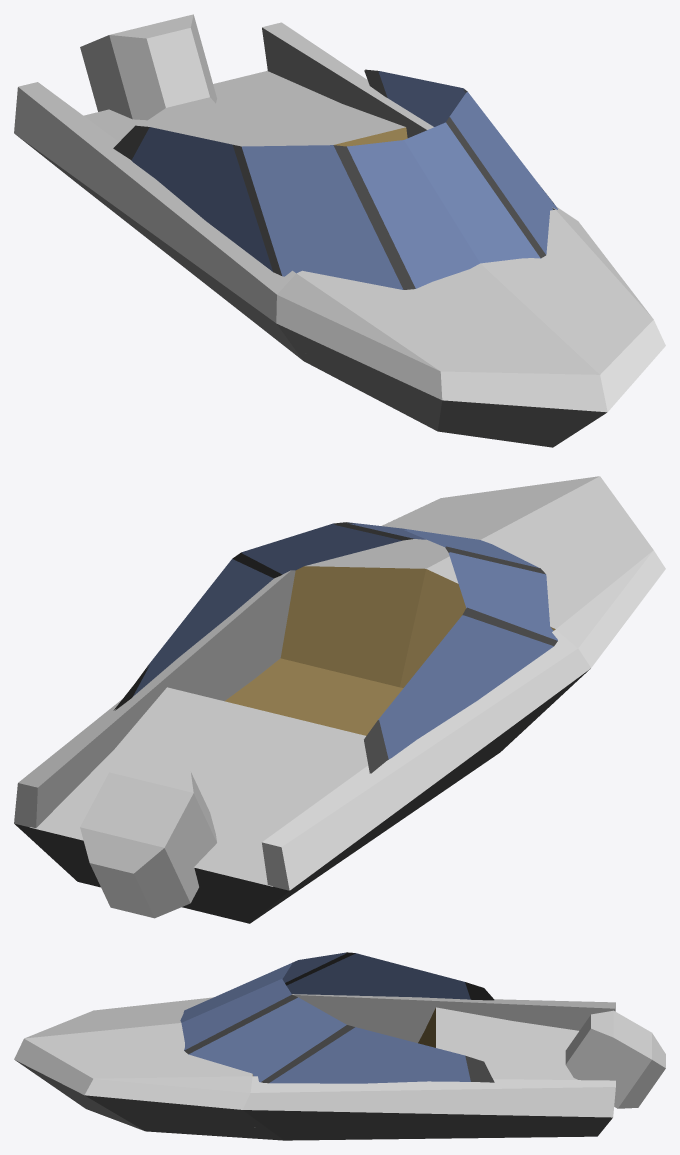
The model's file is transport_water_007.fbx.
The picture shows the model from 3 angles, top to bottom: view 1: azimuth 30°, elevation 25°; view 2: azimuth 150°, elevation 25°; view 3: azimuth 270°, elevation 25°; orthographic projection. The views are drawn at different scales.
Parts seen in each view (by area): view 1: transport_water_007; view 2: transport_water_007; view 3: transport_water_007.
Boxes of the visible parts, bbox=[...] form: transport_water_007: bbox=[14, 14, 665, 447]; transport_water_007: bbox=[14, 476, 665, 923]; transport_water_007: bbox=[14, 952, 665, 1140].
Bounding box in the file's own units: 206 × 124 × 561.
